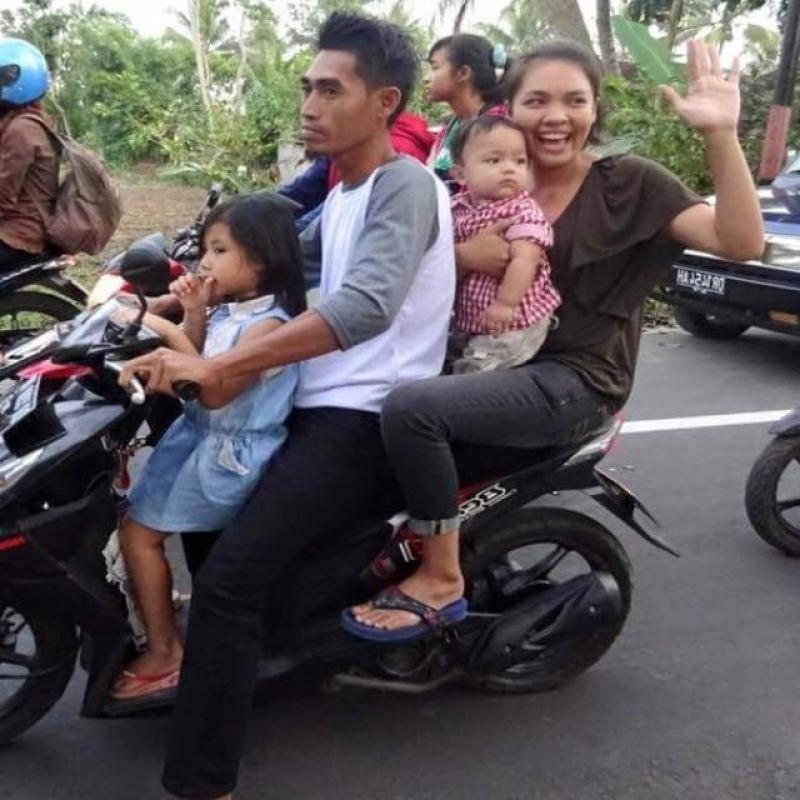nohelmet: (298, 3, 416, 178), (503, 25, 606, 186)
